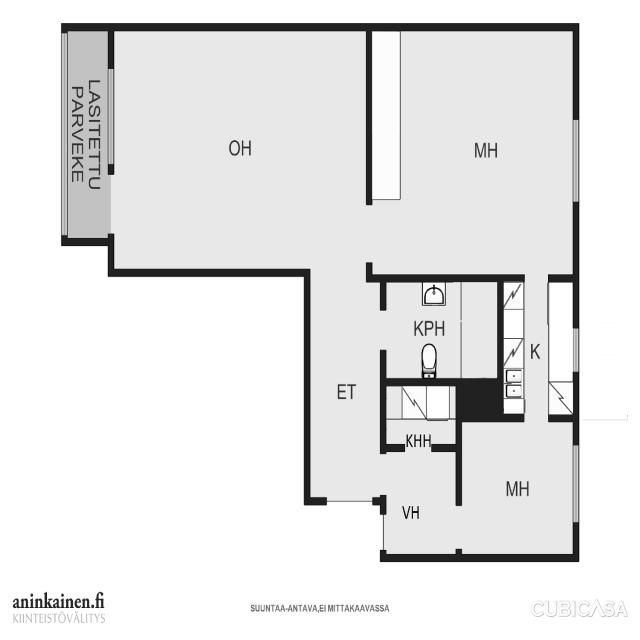window: (58, 28, 78, 239), (100, 64, 130, 171), (568, 437, 582, 538), (568, 120, 582, 209), (569, 326, 584, 374)
zone: (112, 28, 370, 270), (367, 22, 580, 281), (465, 414, 576, 563), (385, 443, 461, 565), (378, 278, 466, 379)
